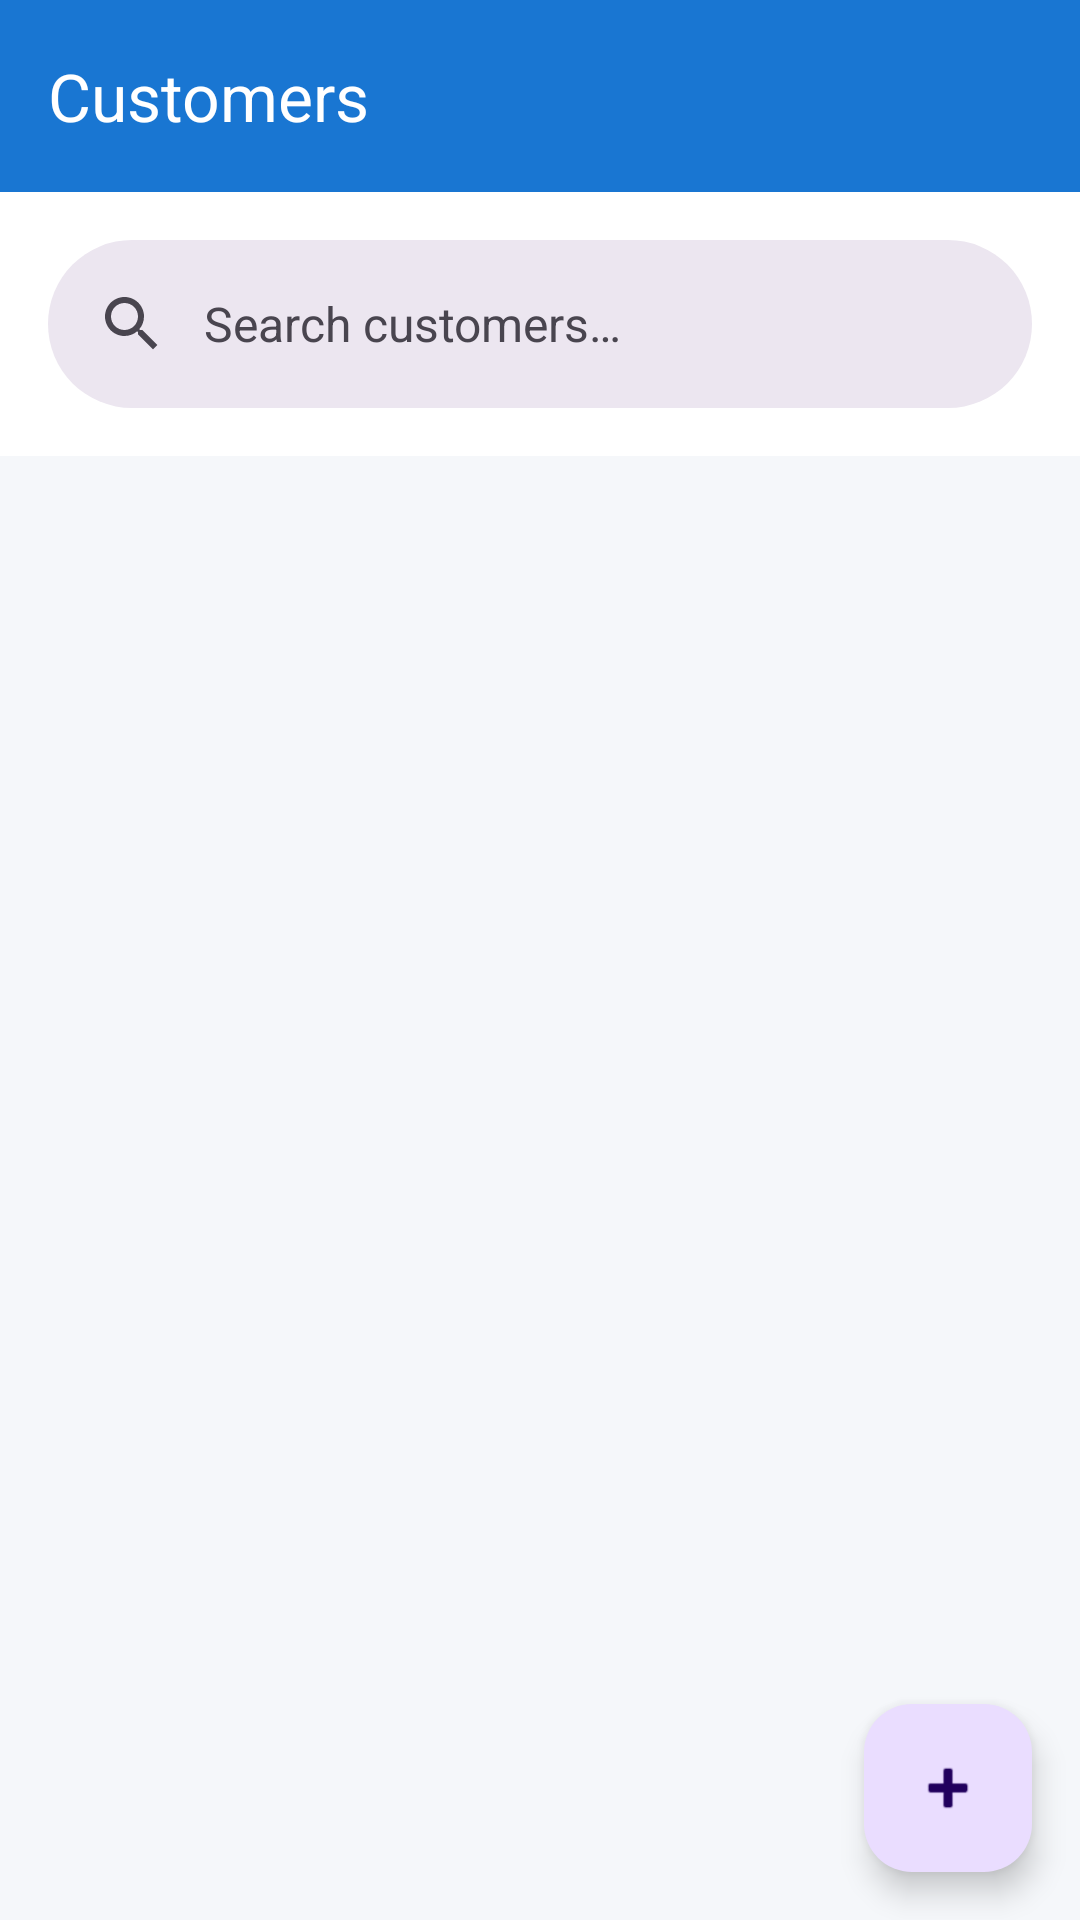

Icons on this 1080px×1920px Android screen, each with its box as (x1, y1, x2, y2):
Add Customer: (864, 1704, 1032, 1872)
